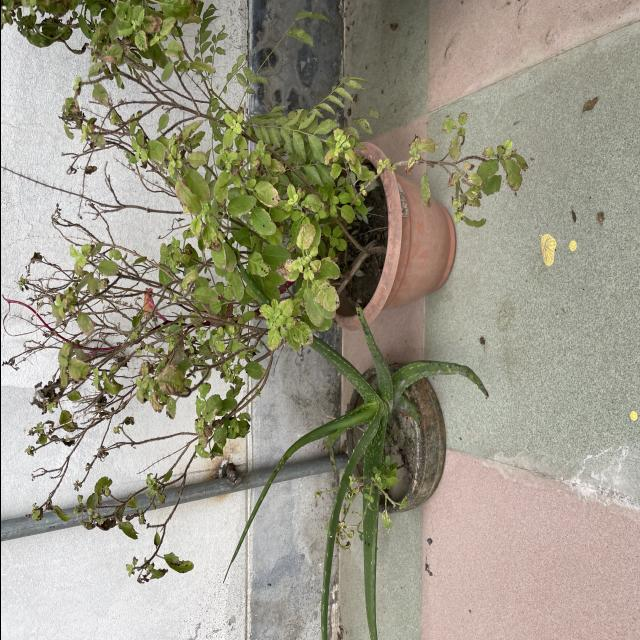Breeding Place: (300, 115, 478, 337), (316, 358, 472, 515)
